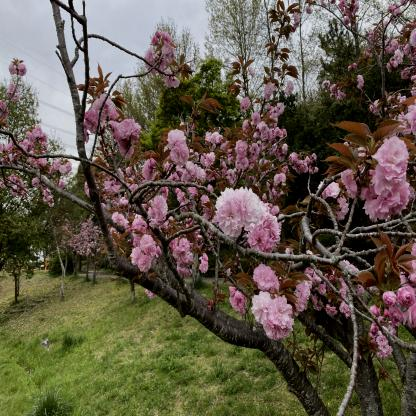YaeSakura: (0, 0, 415, 356), (55, 213, 107, 261)
